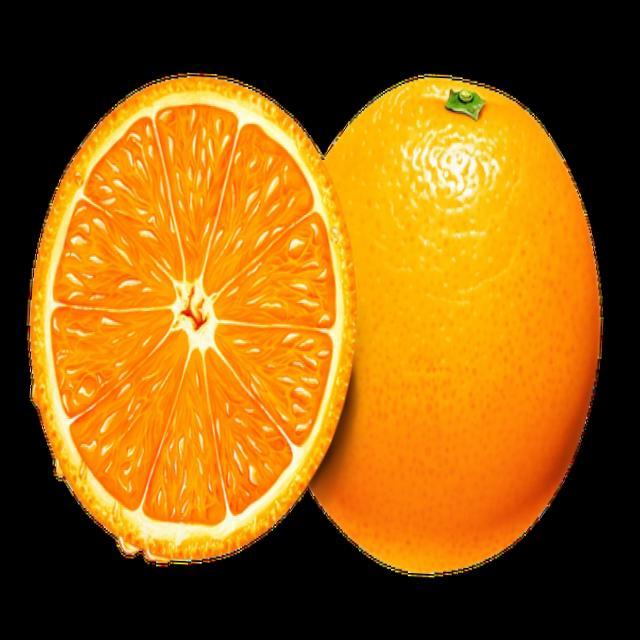orange: (289, 65, 618, 578)
